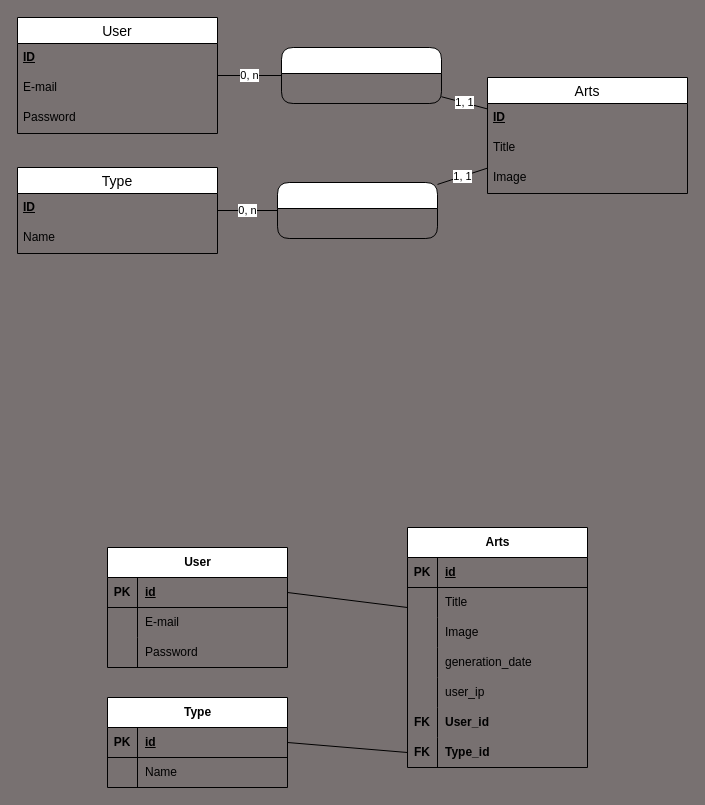
This 705x805 diagram has some shape labels left out. Each missing label, with the box of its shape:
Create: (280, 46, 442, 104)
Has: (276, 182, 438, 238)
